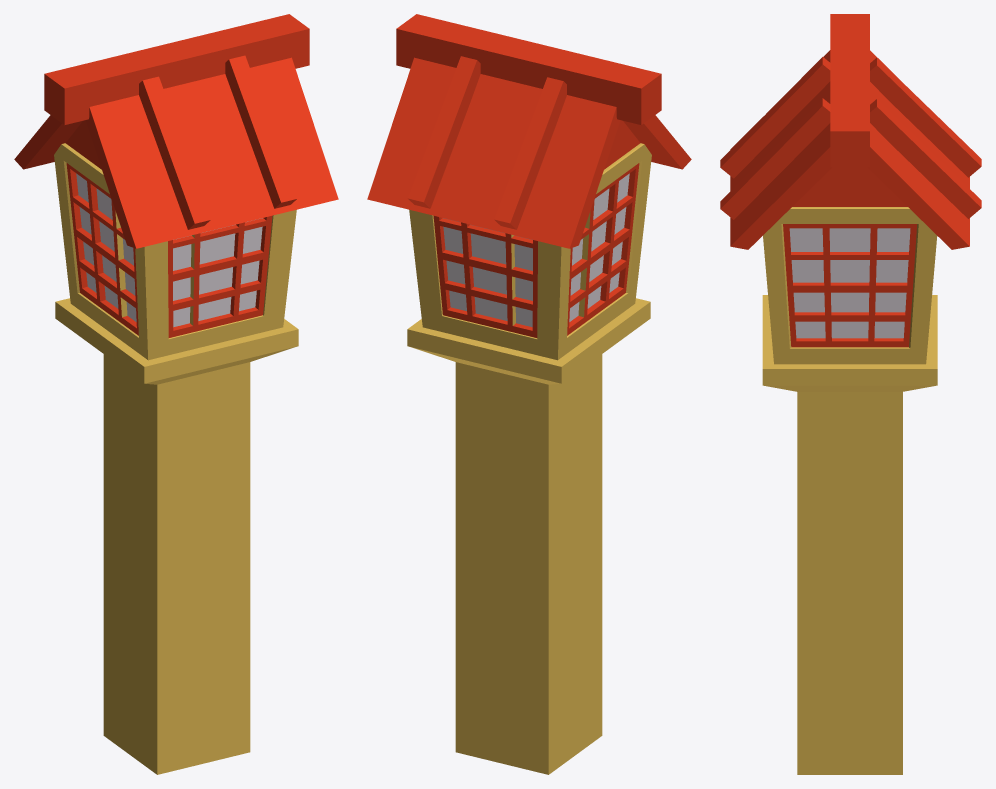
Rendered from lamp.fbx.
3 views of the same model, side by side, from view 1: azimuth 30°, elevation 25°; view 2: azimuth 150°, elevation 25°; view 3: azimuth 270°, elevation 25° (orthographic).
Parts seen in each view (by area): view 1: stand, roof, house; view 2: stand, roof, house; view 3: stand, roof, house.
Boxes of the visible parts, <box> form: stand: <box>55,298,298,774</box>; roof: <box>14,14,338,248</box>; house: <box>54,143,296,360</box>; stand: <box>407,298,650,774</box>; roof: <box>367,14,691,248</box>; house: <box>409,143,651,360</box>; stand: <box>762,295,937,774</box>; roof: <box>720,14,981,249</box>; house: <box>763,207,937,364</box>.
Bounding box in the file's own units: 316 × 853 × 297.
